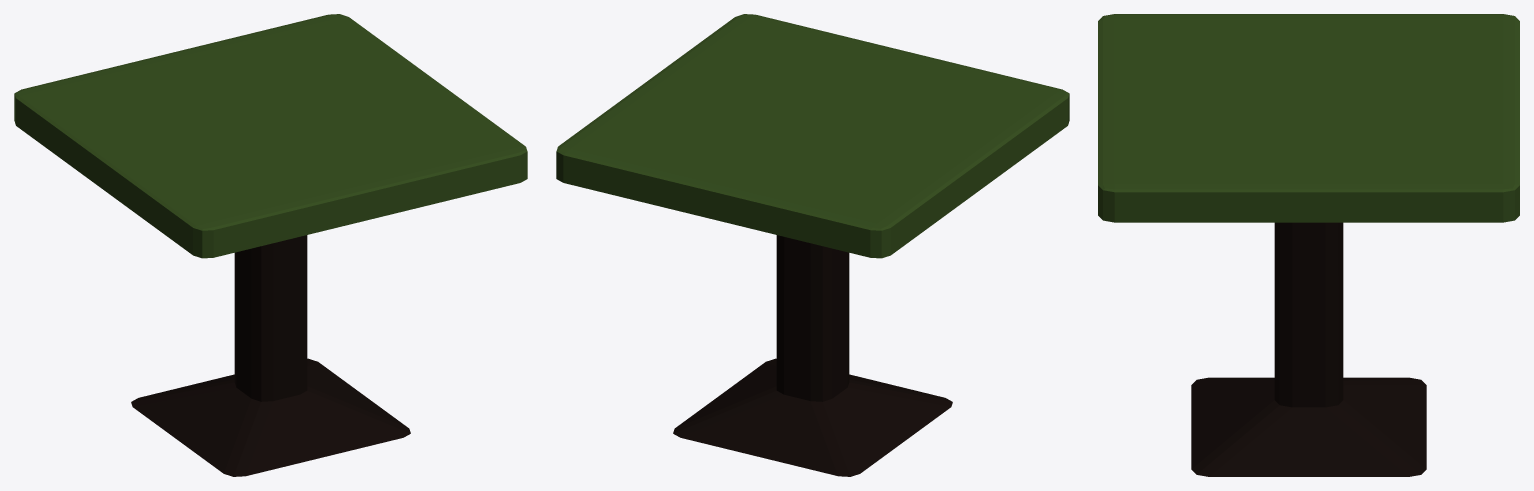
File: Table monster.fbx
3 views of the same model, side by side, from view 1: azimuth 30°, elevation 25°; view 2: azimuth 150°, elevation 25°; view 3: azimuth 270°, elevation 25° (orthographic). The views are drawn at different scales.
Parts seen in each view (by area): view 1: Table monster; view 2: Table monster; view 3: Table monster.
Part boxes in pixels (x1,y1,x2,y2): Table monster: (14, 14, 527, 476); Table monster: (556, 14, 1069, 476); Table monster: (1098, 14, 1519, 476).
Bounding box in the file's own units: 83.31 × 70.94 × 83.31.
